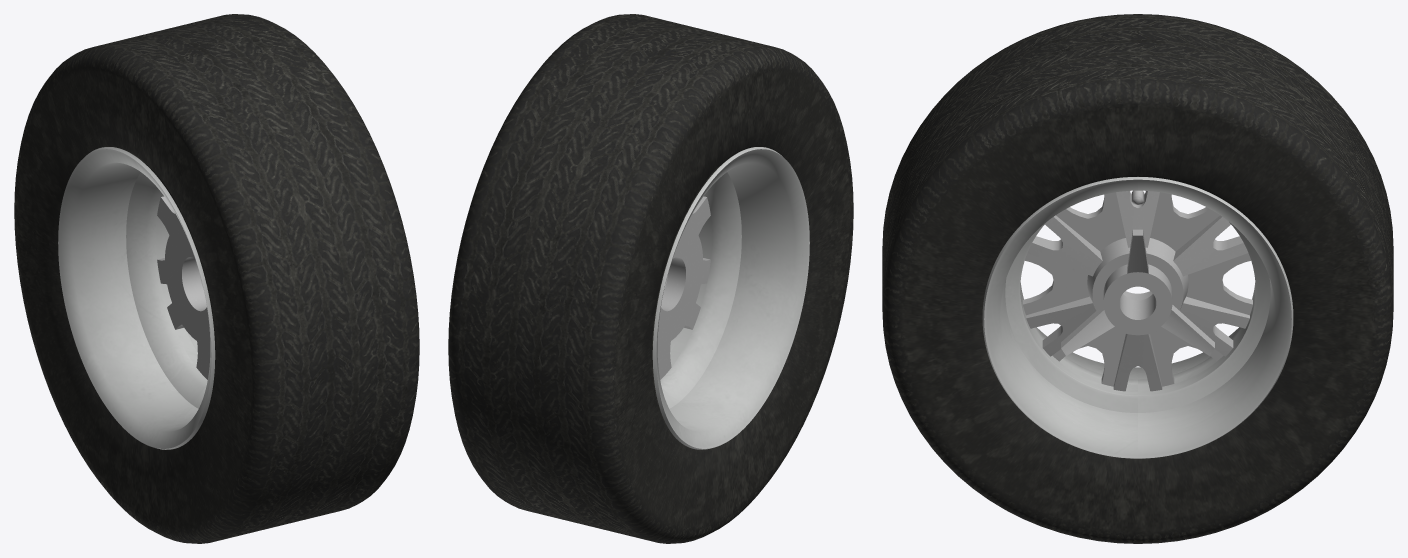
Rendered from ac_cobra_427_wheel.glb.
The picture shows the model from 3 angles, left to right: view 1: azimuth 30°, elevation 25°; view 2: azimuth 150°, elevation 25°; view 3: azimuth 270°, elevation 25°; orthographic projection.
Parts seen in each view (by area): view 1: B_Wheel; view 2: B_Wheel; view 3: B_Wheel.
Part boxes in pixels (x1=…): B_Wheel: x1=14, y1=14, x2=419, y2=543; B_Wheel: x1=448, y1=14, x2=853, y2=543; B_Wheel: x1=882, y1=14, x2=1393, y2=543.
Bounding box in the file's own units: 0.2558 × 0.687 × 0.687.
1 material, 1 textured.
